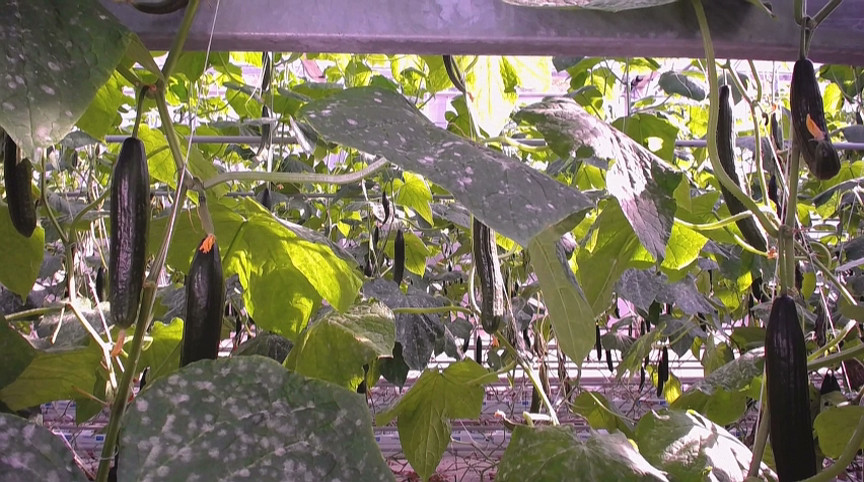cucumber: (767, 297, 818, 481), (718, 83, 769, 251), (108, 137, 152, 330), (178, 236, 224, 369), (790, 58, 840, 178), (3, 133, 37, 240), (472, 217, 503, 334), (393, 230, 407, 287)
